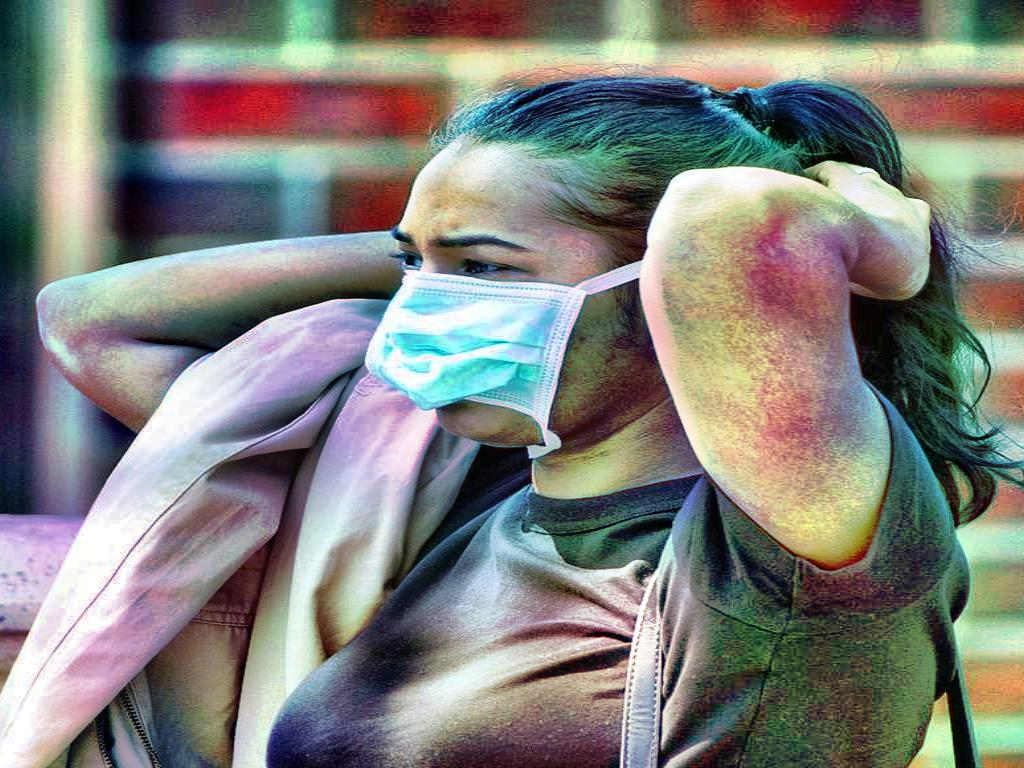mask_weared_incorrect: (358, 75, 801, 465)
